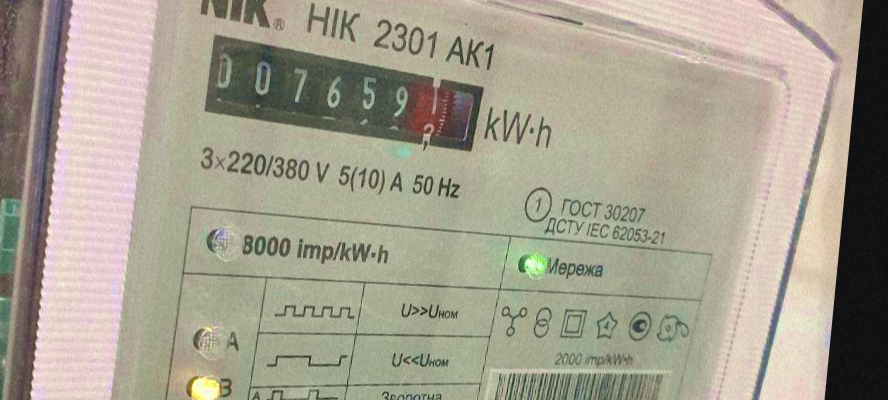0: (247, 55, 275, 99), (209, 49, 235, 92)
1: (423, 85, 443, 119)
5: (355, 73, 379, 113)
6: (320, 71, 345, 111)
7: (286, 64, 308, 106)
9: (389, 82, 409, 121)
screen: (190, 25, 493, 171)
